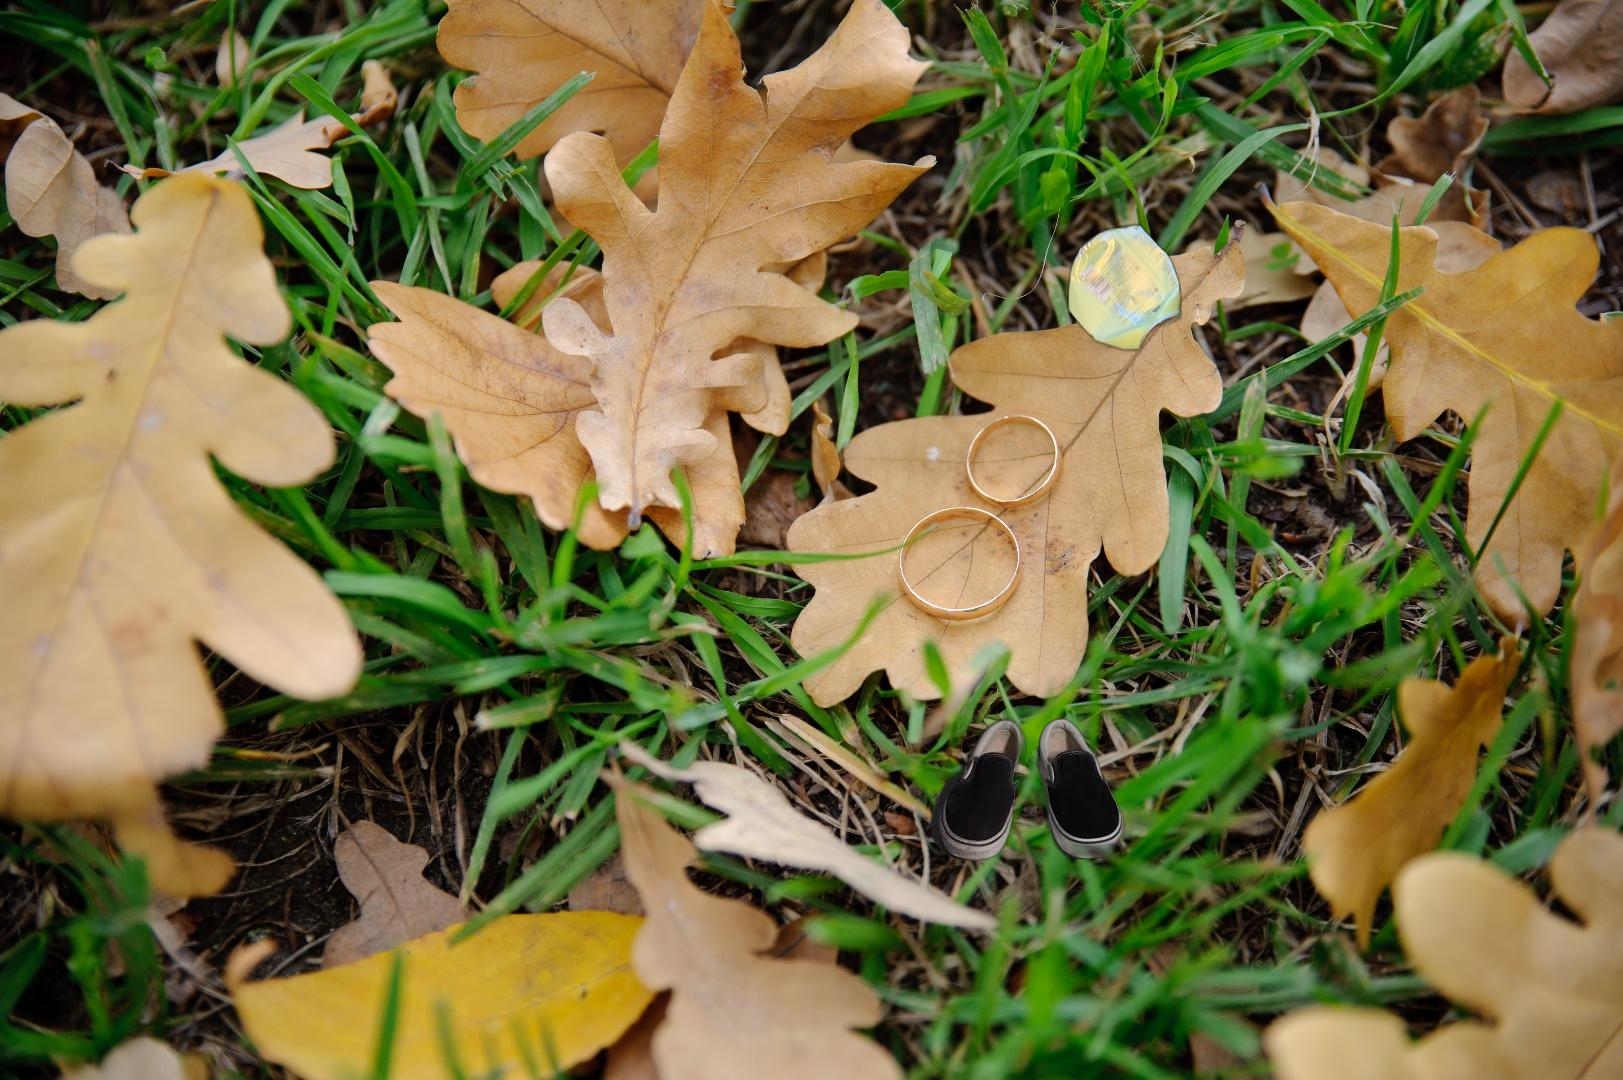metal-cans: (1063, 219, 1186, 356)
shoes: (928, 712, 1129, 864)
